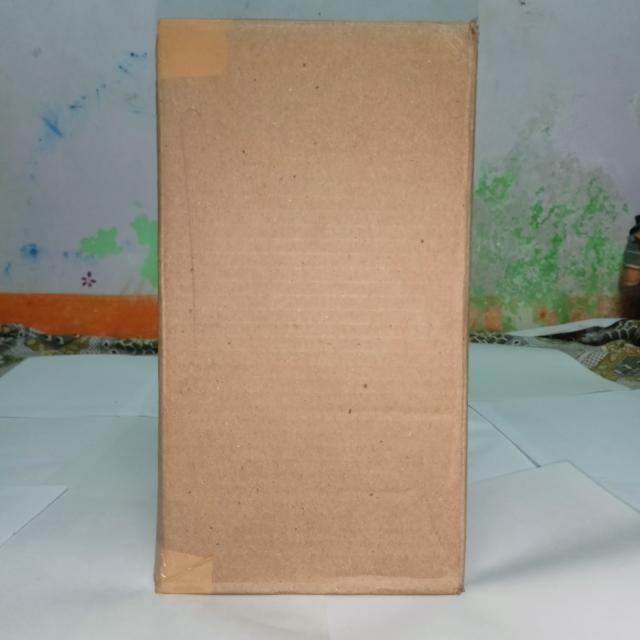box: (153, 19, 480, 600)
